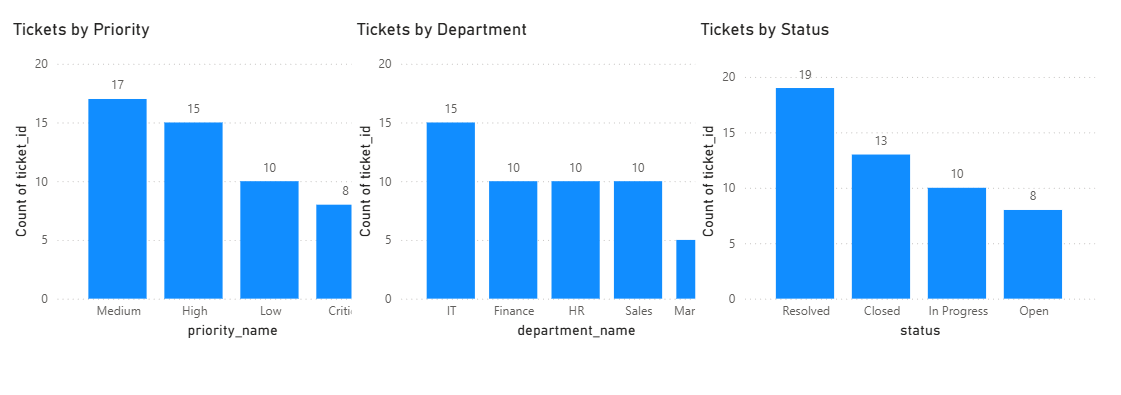

The dashboard page shown, as its layout file describes it:
{"tool":"powerbi","page":{"name":"Ticket Analysis","canvas":[1280,720],"ordinal":2},"visuals":[{"type":"clusteredColumnChart","title":"Tickets by Priority","fields":{"Category":["priorities.priority_name"],"Y":["CountNonNull(tickets.ticket_id)"]},"box":[13,20,400,320],"z":0},{"type":"clusteredColumnChart","title":"Tickets by Department","fields":{"Y":["CountNonNull(tickets.ticket_id)"],"Category":["departments.department_name"]},"box":[353,20,400,320],"z":1000},{"type":"clusteredColumnChart","title":"Tickets by Status","fields":{"Y":["CountNonNull(tickets.ticket_id)"],"Category":["tickets.status"]},"box":[693,20,400,320],"z":2000}]}

Visuals, with their boxes on the page's 1280x720 design canvas (x1, y1, x2, y2). These are canvas units, not pixel positions in the 1121x395 screenshot, which may show the page scaled, cropped or inside an application window:
"Tickets by Priority" clusteredColumnChart: (x1=13, y1=20, x2=413, y2=340)
"Tickets by Department" clusteredColumnChart: (x1=353, y1=20, x2=753, y2=340)
"Tickets by Status" clusteredColumnChart: (x1=693, y1=20, x2=1093, y2=340)
